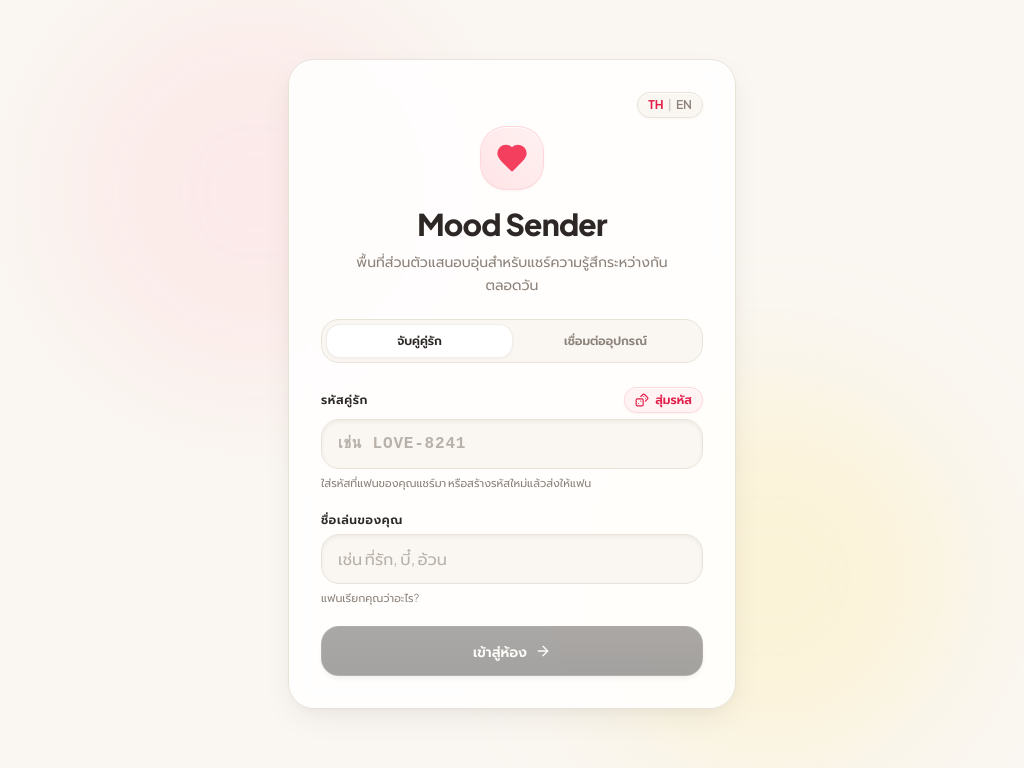
Frontend UI Components › PairModal Component › shows inline error alert when rate limited (429)
Type "LOVE-FULL" into the field labelled "รหัสคู่รัก". click: (512, 444)
box: [321, 419, 703, 469]
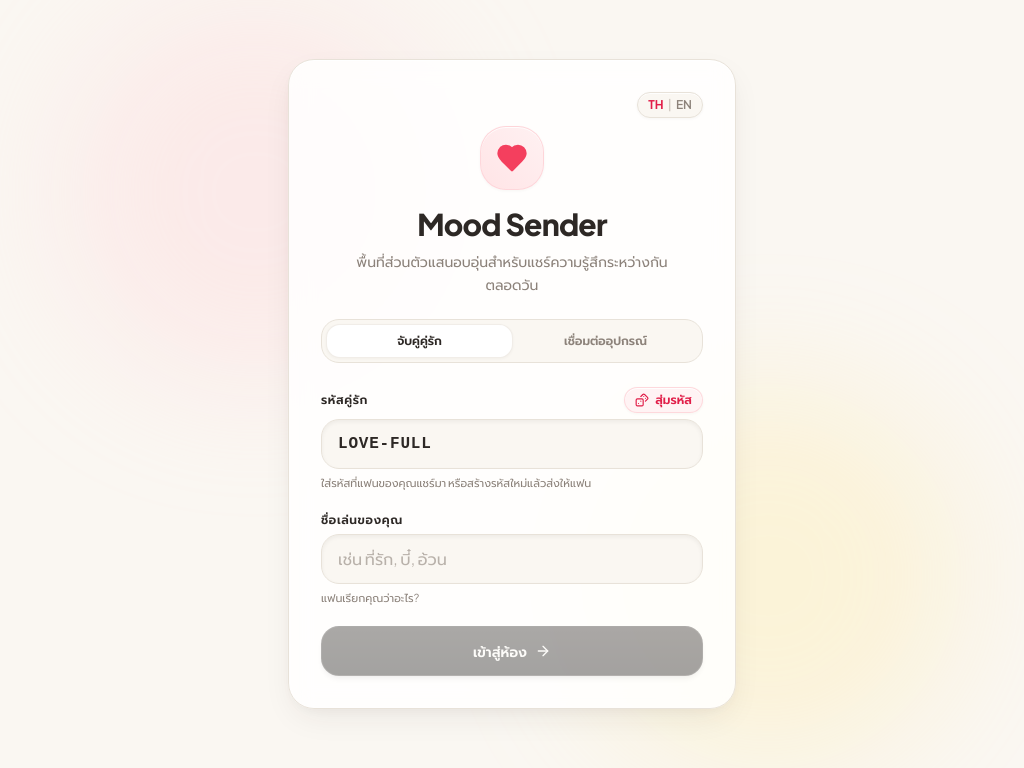
Type "WrongUser" into the field labelled "ชื่อเล่นของคุณ". click: (512, 559)
box: [321, 534, 703, 584]
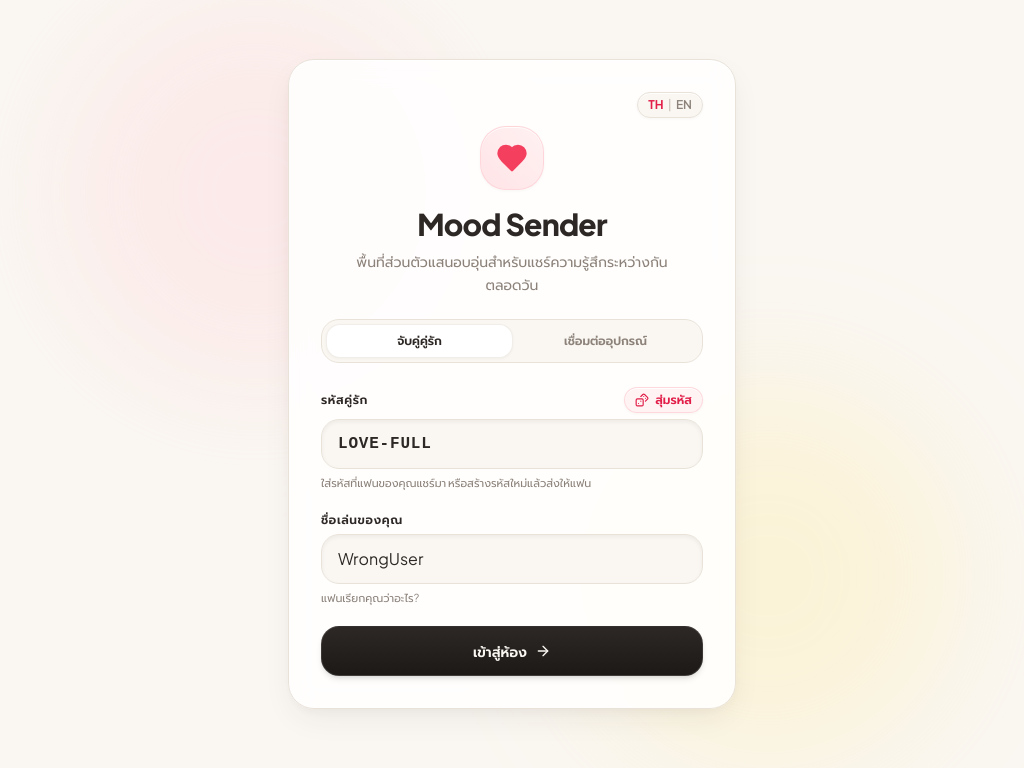
Submit the text "เข้าสู่ห้อง", box [321, 387, 703, 676]
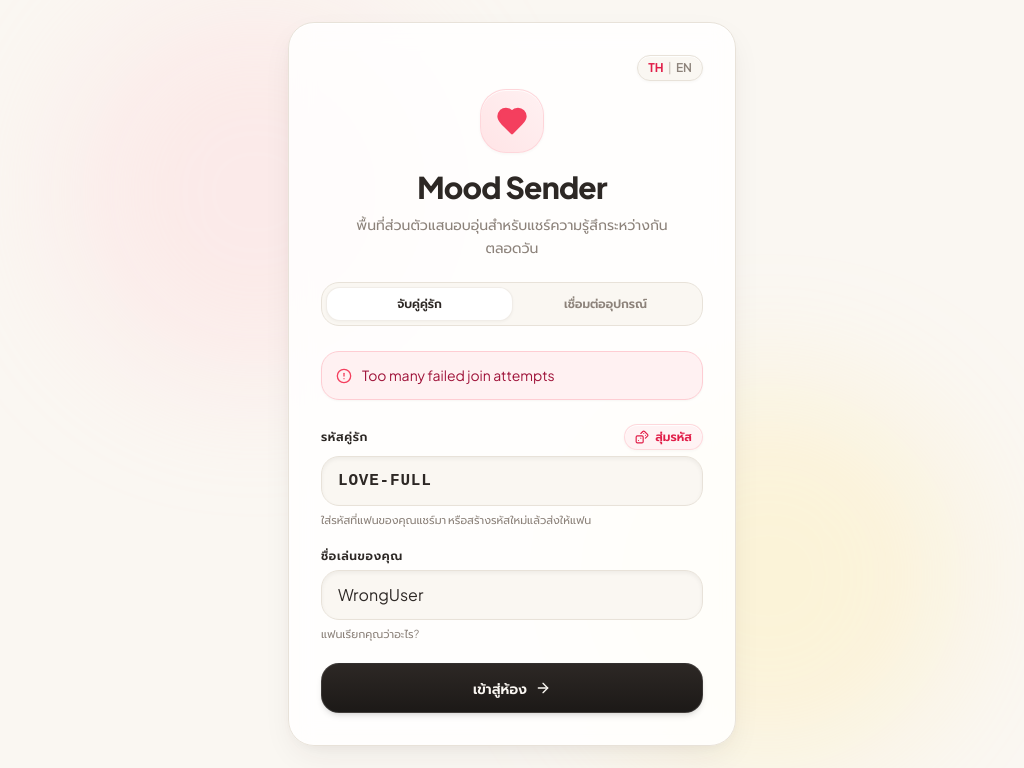
Result: the text "Too many failed join attempts" is shown at [362, 366, 555, 385]
